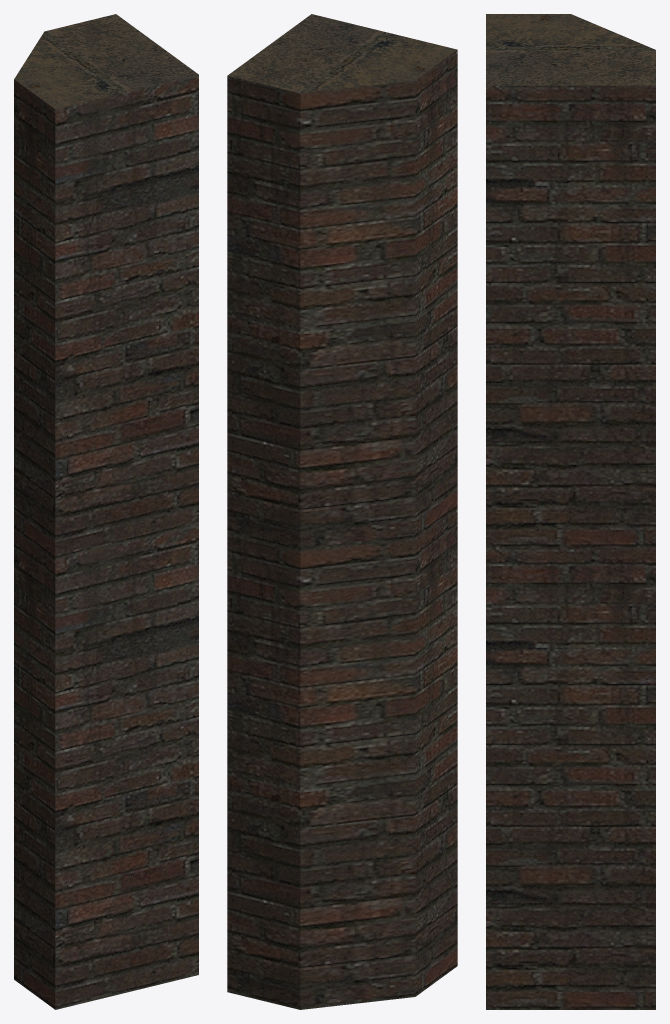
Rendered from pillar_hs_6.obj.
3 renders of one model, left to right at view 1: azimuth 30°, elevation 25°; view 2: azimuth 150°, elevation 25°; view 3: azimuth 270°, elevation 25°, orthographic. The views are drawn at different scales.
Visible parts, largest first — view 1: pillar_hs_6; view 2: pillar_hs_6; view 3: pillar_hs_6.
Part boxes in pixels (bbox=[...]): pillar_hs_6: bbox=[14, 14, 198, 1009]; pillar_hs_6: bbox=[227, 14, 457, 1009]; pillar_hs_6: bbox=[486, 14, 655, 1009].
Bounding box in the file's own units: 1 × 6 × 1.
